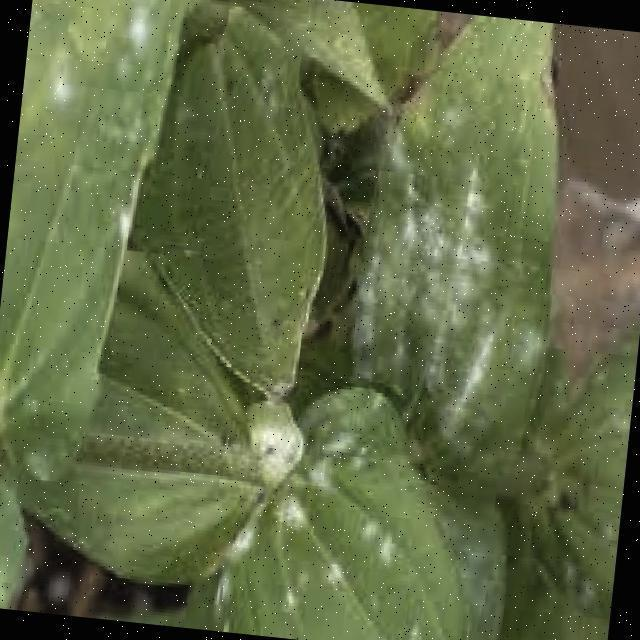Septoria_Blight: (340, 110, 555, 469), (175, 379, 333, 610)
